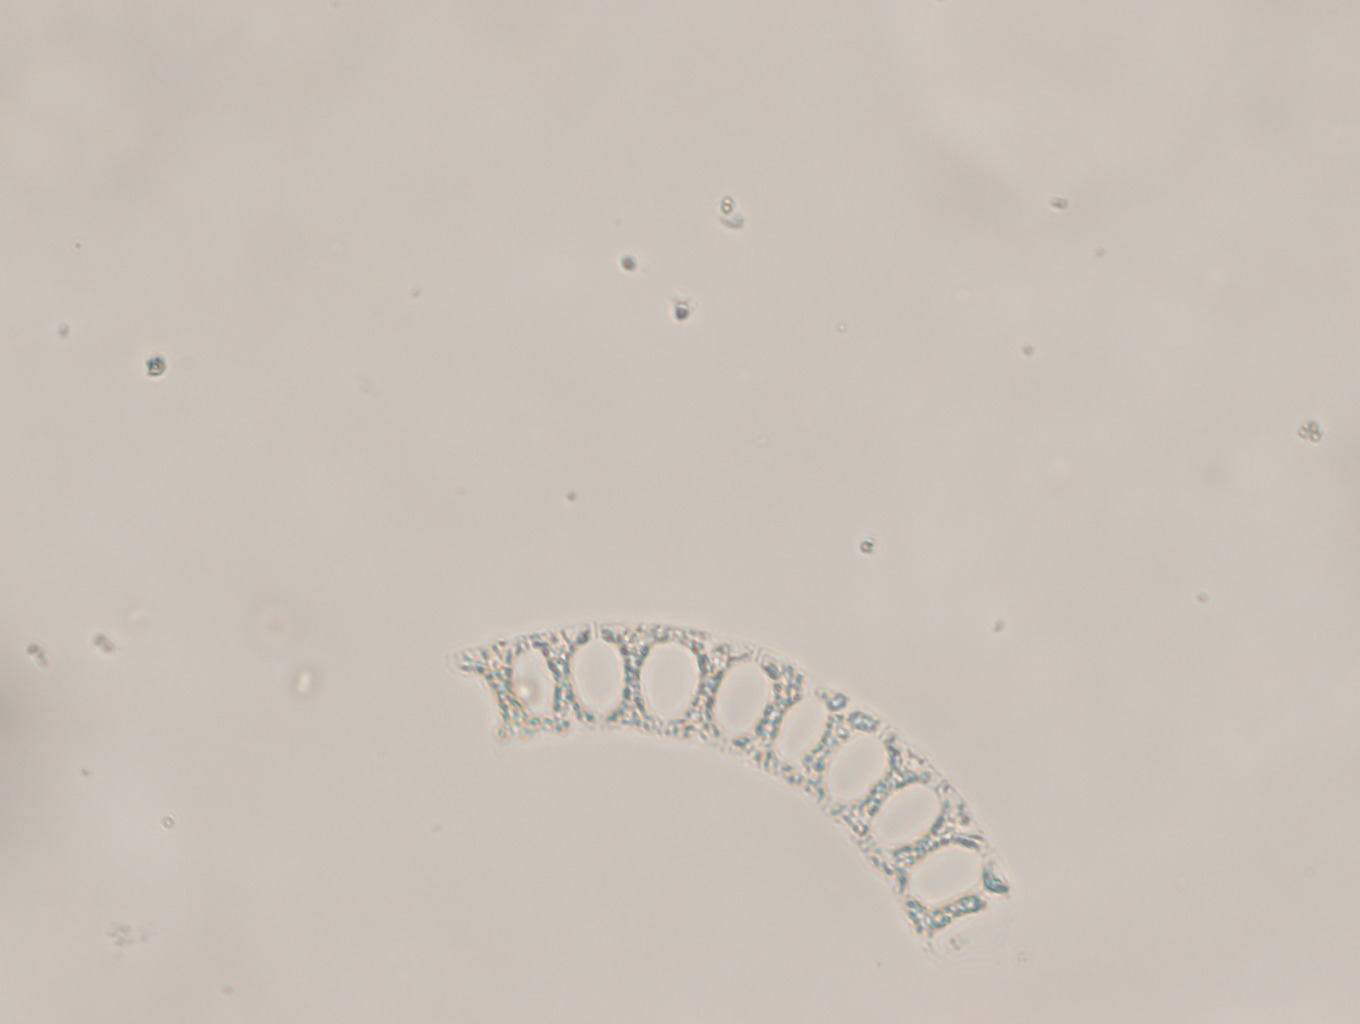eucampia: (452, 624, 1016, 947)
